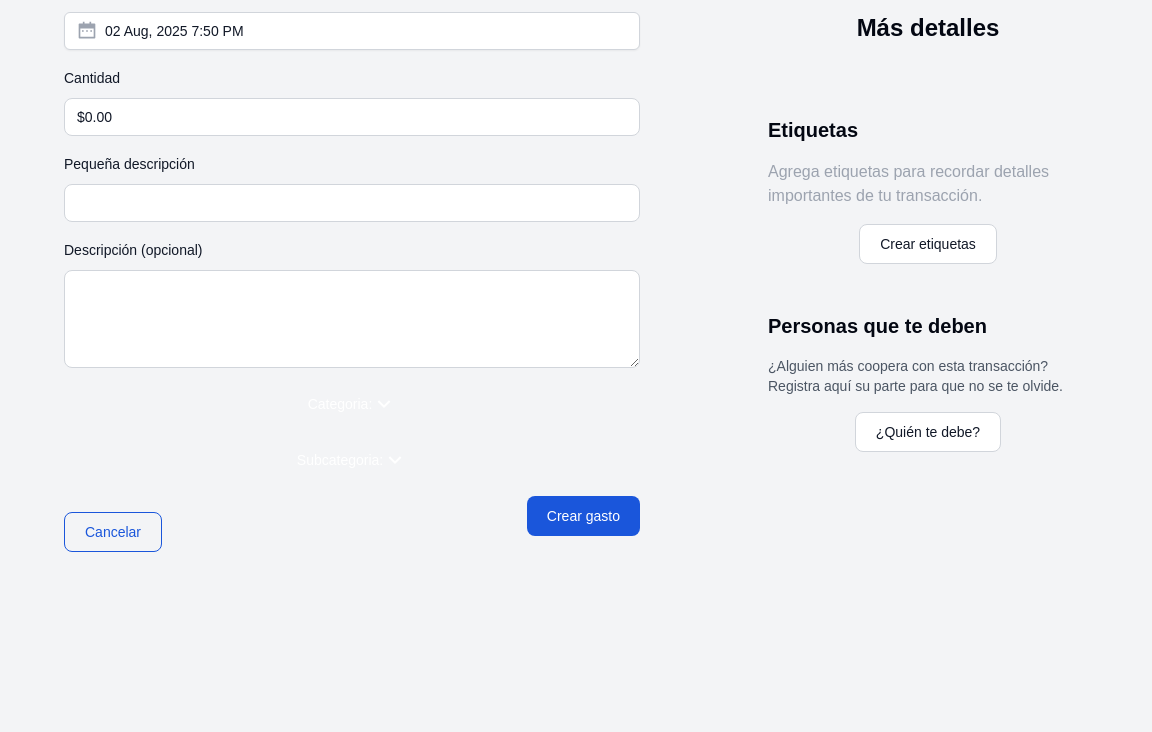
Scenario: ExpenseTemplate › Form Validations › Given a user typing one letter and then clicking create expense, show validation error for description to be more than 3 characters
The width and height of the screenshot is (1152, 732).
Type "a" into the text box labelled "Descripción (opcional)" at {"x": 352, "y": 319}, box [64,270,640,368]
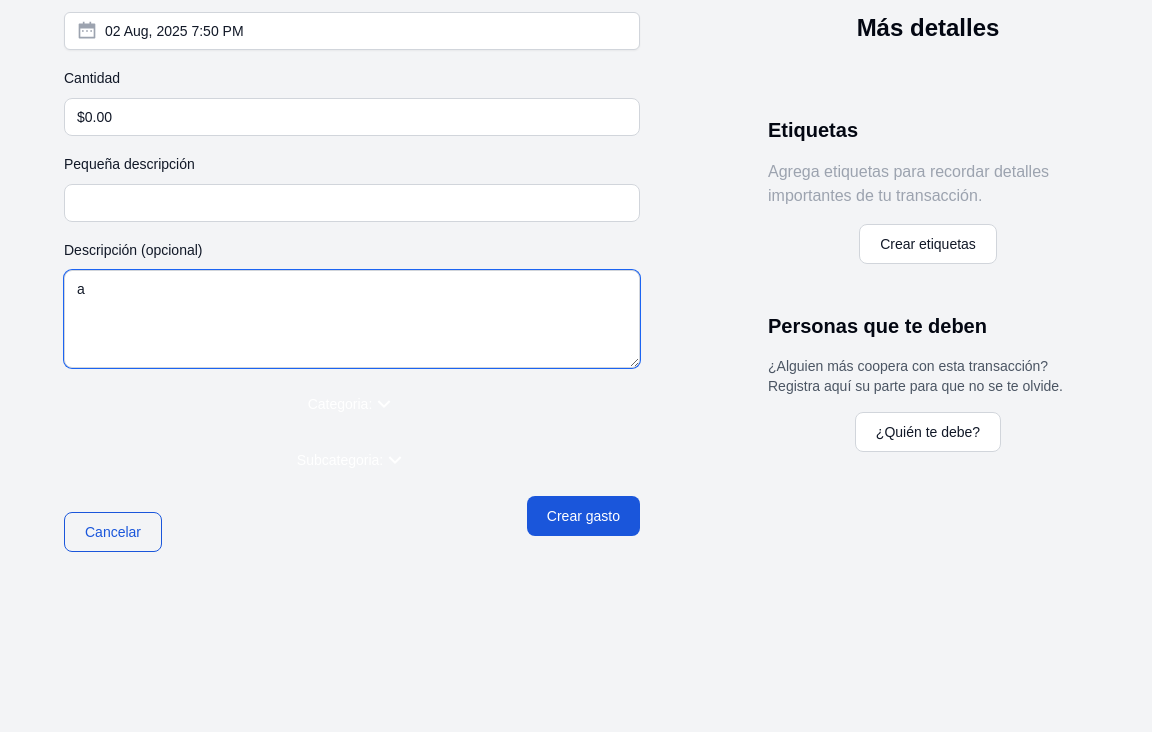
Click the button "Crear gasto" at {"x": 583, "y": 516}, box [527,496,640,536]
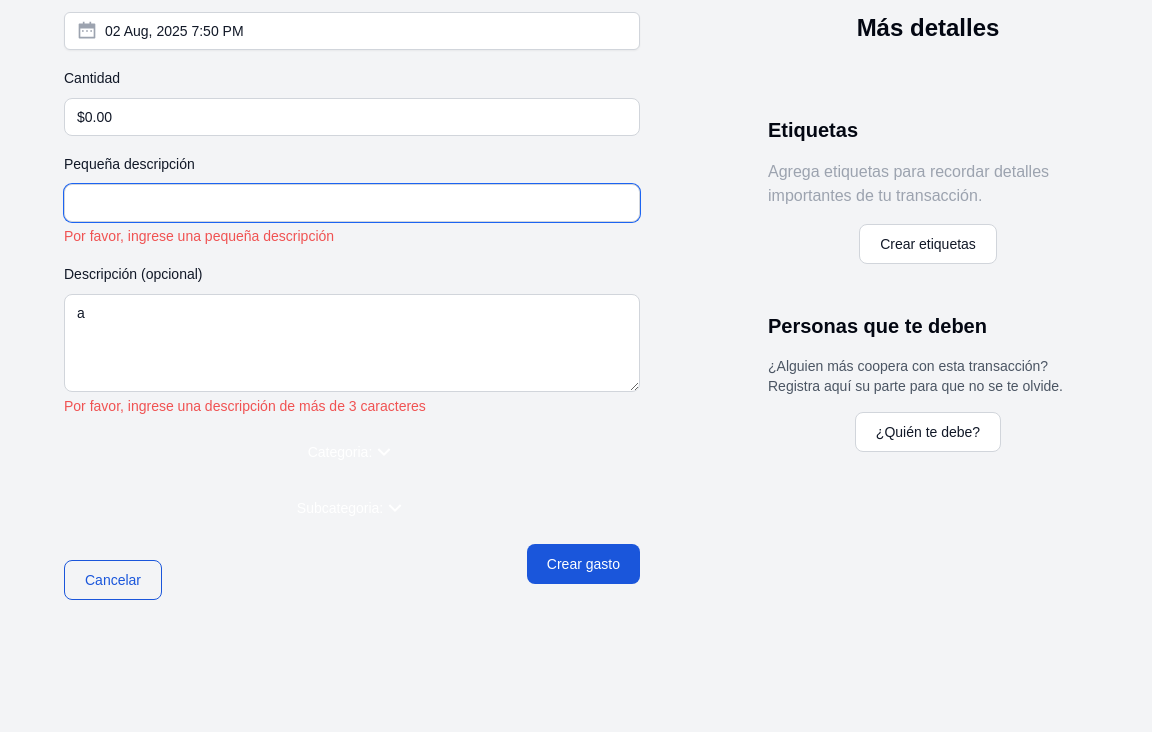
Expected: the text "Por favor, ingrese una descripción de más de 3 caracteres" is shown, [64,398,426,414]
